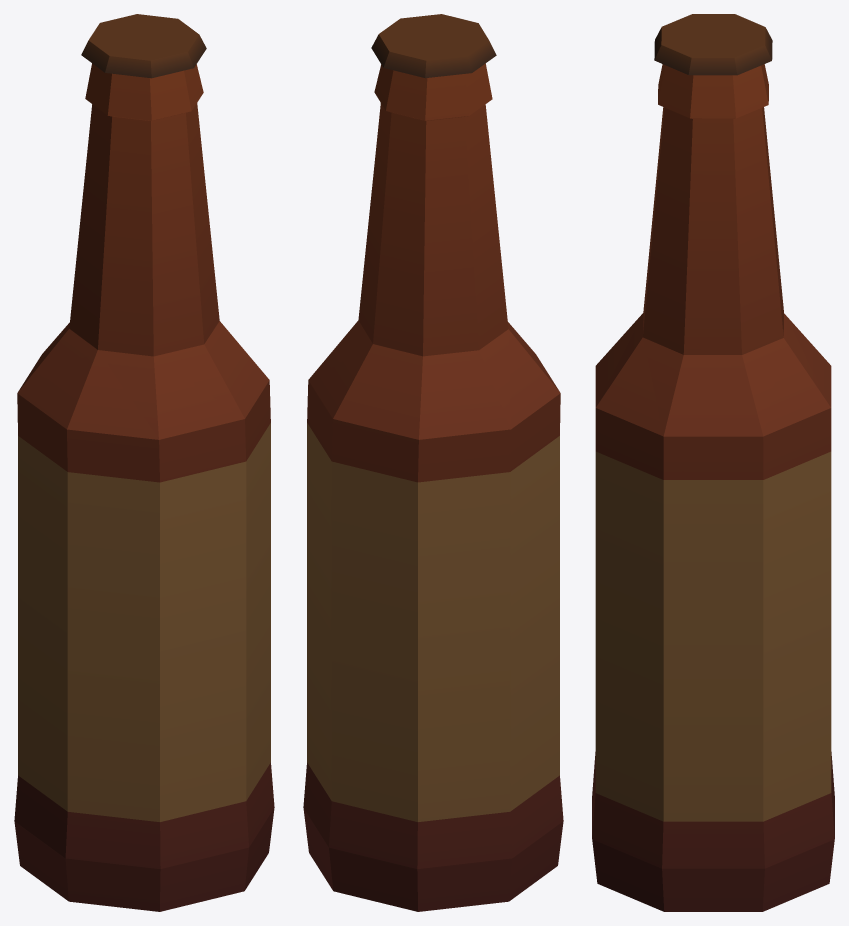
The model's file is Prop_Beer_Bottle_01.obj.
The picture shows the model from 3 angles, left to right: view 1: azimuth 30°, elevation 25°; view 2: azimuth 150°, elevation 25°; view 3: azimuth 270°, elevation 25°; orthographic projection.
Visible parts, largest first — view 1: Prop_Beer_Bottle_01; view 2: Prop_Beer_Bottle_01; view 3: Prop_Beer_Bottle_01.
Part boxes in pixels (box(x1,y1,x2,y2)): Prop_Beer_Bottle_01: box(14, 14, 274, 911); Prop_Beer_Bottle_01: box(303, 14, 563, 911); Prop_Beer_Bottle_01: box(592, 14, 834, 911).
Bounding box in the file's own units: 0.09 × 0.34 × 0.09.
1 material, 1 textured.
